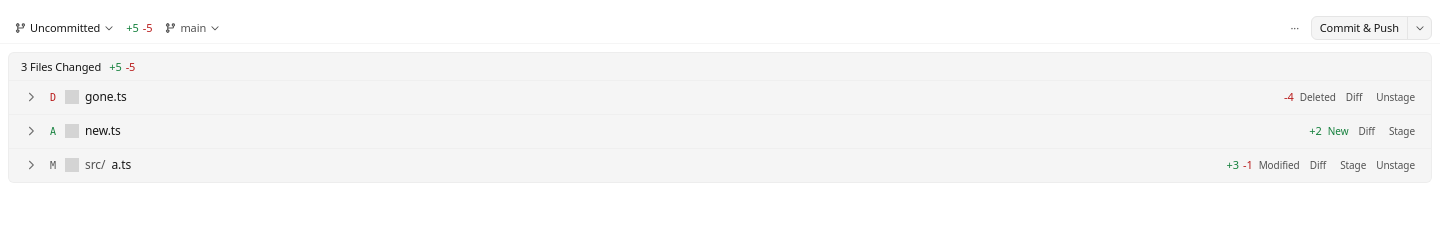
Test: ChangesPanel › surfaces checkout failure as a notice
The image size is (1440, 225).
Click the button titled "main". click: click(192, 28)
box: [158,16,226,40]
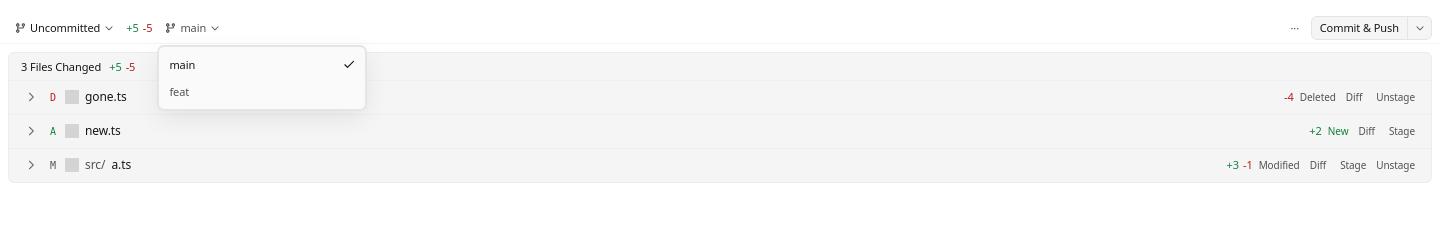
Click the menu item "feat". click: click(262, 92)
box: [159,78,365,105]
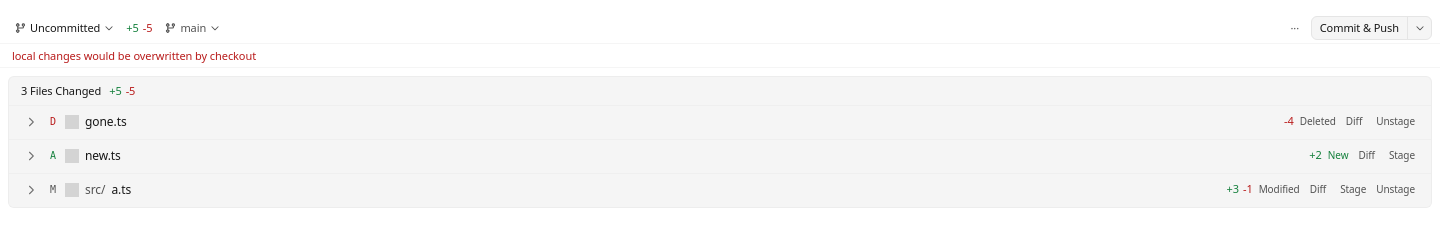
Check: the message "local changes would be overwritten by checkout" is shown, box [0,44,1439,68]
Check: the message shows "overwritten", box [12,48,256,63]
